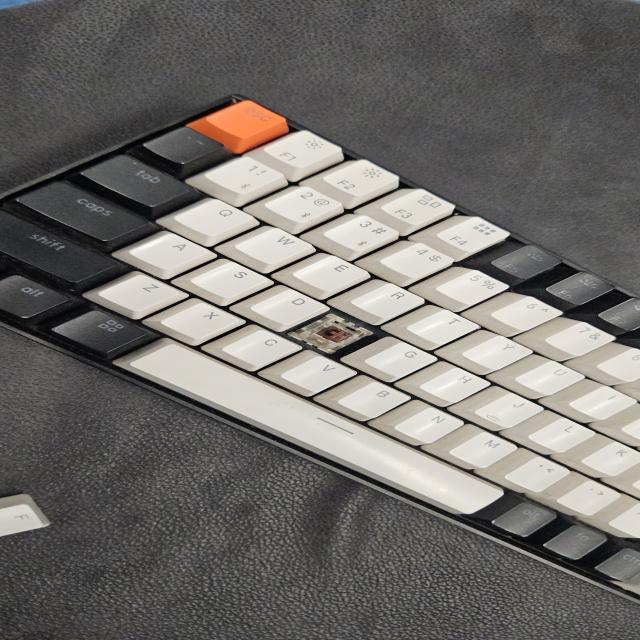C: (310, 319, 365, 344)
